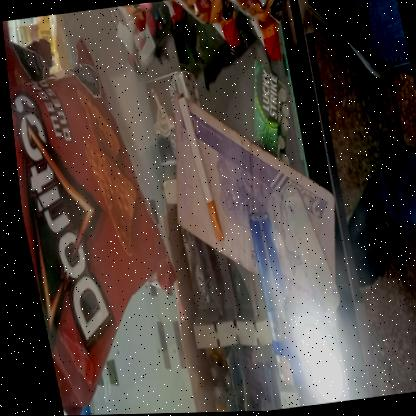vef_back: (80, 133, 359, 326)
